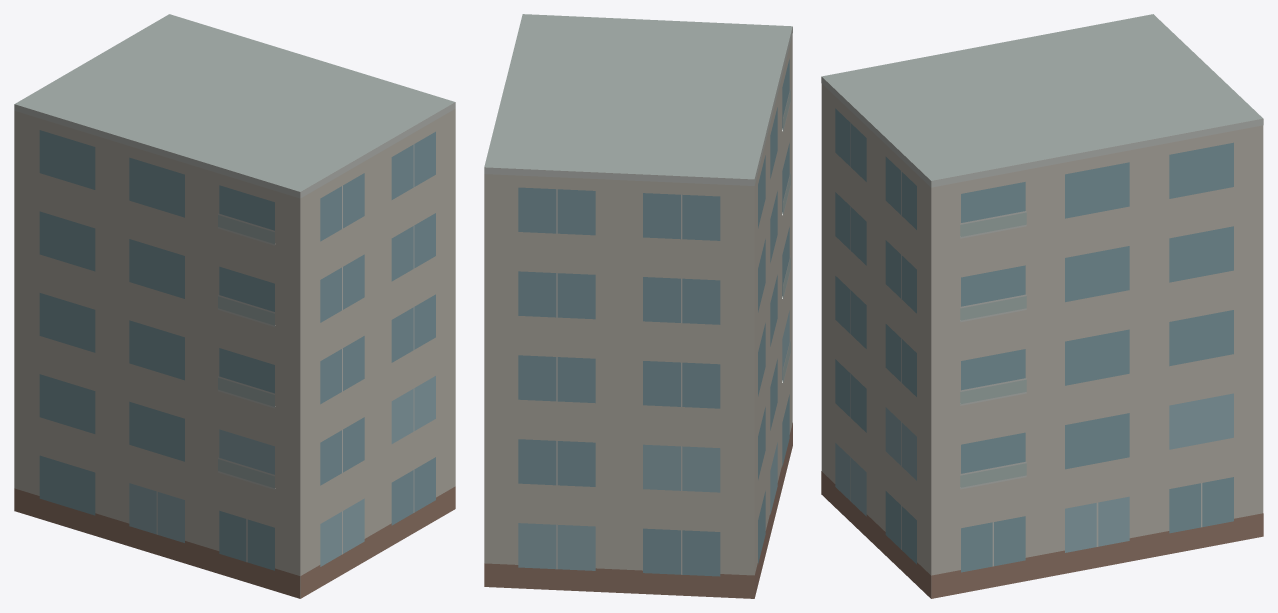
Rendered from residential-15e675a9-937e-4d4c-9884-e83b9d7a27fb.glb.
3 renders of one model, left to right at view 1: azimuth 30°, elevation 25°; view 2: azimuth 150°, elevation 25°; view 3: azimuth 270°, elevation 25°, orthographic. The views are drawn at different scales.
Visible parts, largest first — view 1: residential-15e675a9-937e-4d4c-9884-e83b9d7a27fb.tmp; view 2: residential-15e675a9-937e-4d4c-9884-e83b9d7a27fb.tmp; view 3: residential-15e675a9-937e-4d4c-9884-e83b9d7a27fb.tmp.
Boxes of the visible parts, box(x1,y1,x2,y2) form: residential-15e675a9-937e-4d4c-9884-e83b9d7a27fb.tmp: box(14, 14, 455, 598); residential-15e675a9-937e-4d4c-9884-e83b9d7a27fb.tmp: box(484, 14, 792, 598); residential-15e675a9-937e-4d4c-9884-e83b9d7a27fb.tmp: box(821, 14, 1263, 598).
Size of the model in its own units: 13.08 by 15.25 by 14.63.
